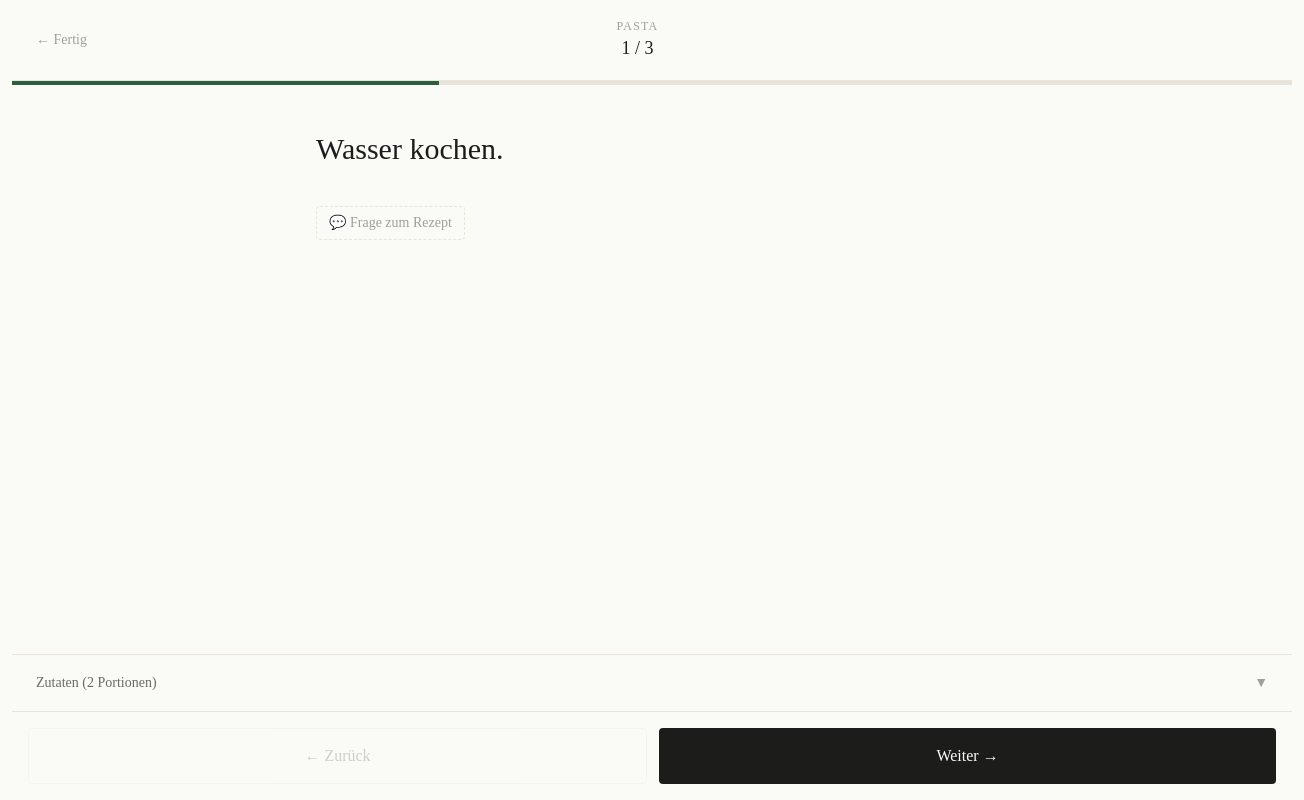
CookMode — persistent timer › shows a step's configured duration as ready to start (not running)
The width and height of the screenshot is (1304, 800).
Click the button "Weiter →" at [968, 756], box x1=659 y1=728 x2=1276 y2=784
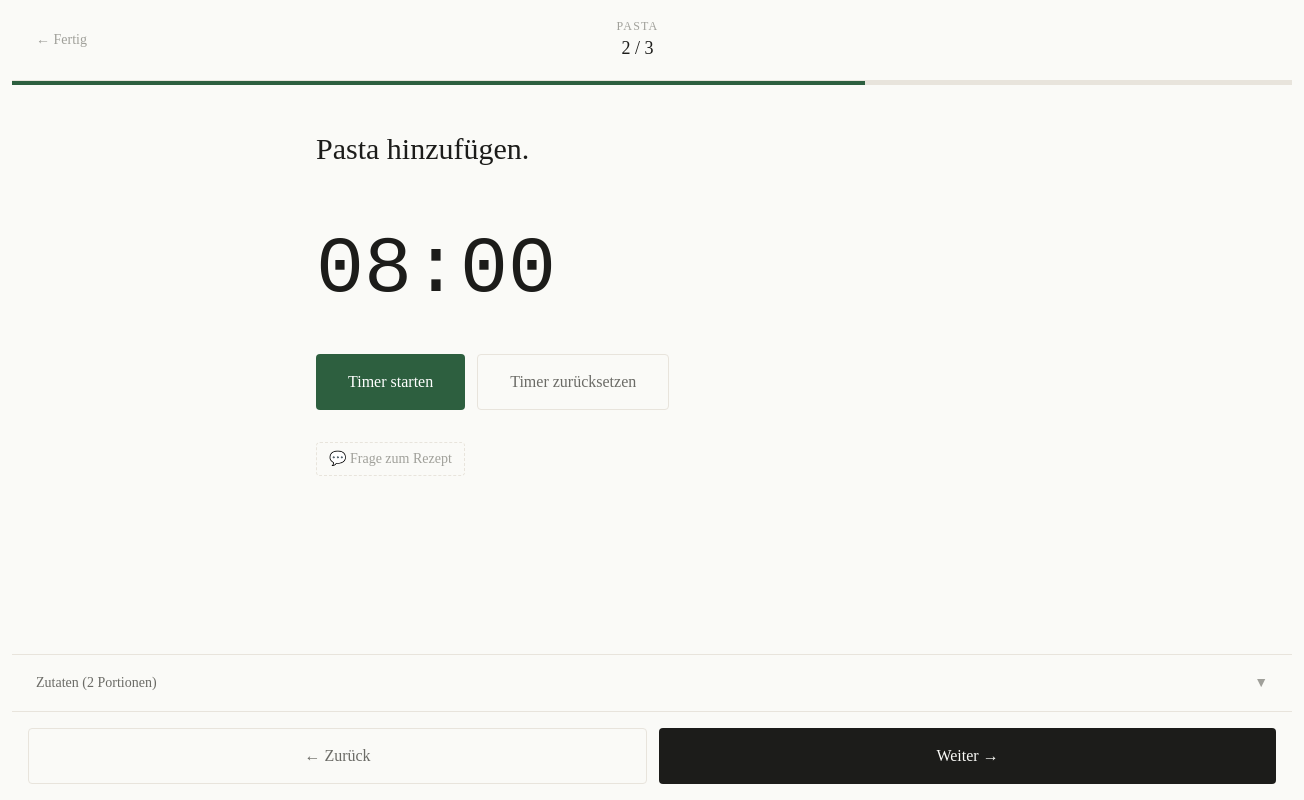
Now the text "08:00" is shown, box x1=316 y1=224 x2=556 y2=315
Now the button "Timer starten" is shown, box x1=316 y1=354 x2=465 y2=410
